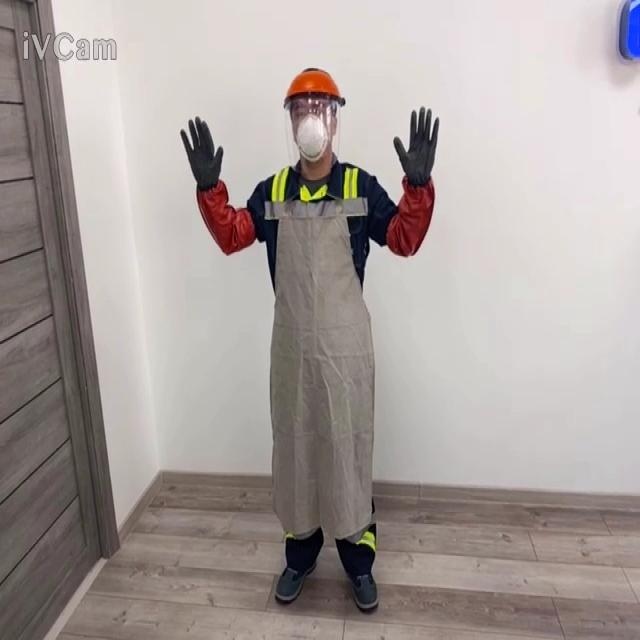Gloves: (393, 105, 439, 187), (179, 114, 223, 190)
Mask: (293, 109, 330, 163)
Protective apron: (263, 168, 376, 543)
Safety Shoes: (274, 558, 317, 602), (348, 570, 378, 610)
Sleeve: (195, 178, 256, 254), (385, 174, 434, 258)
